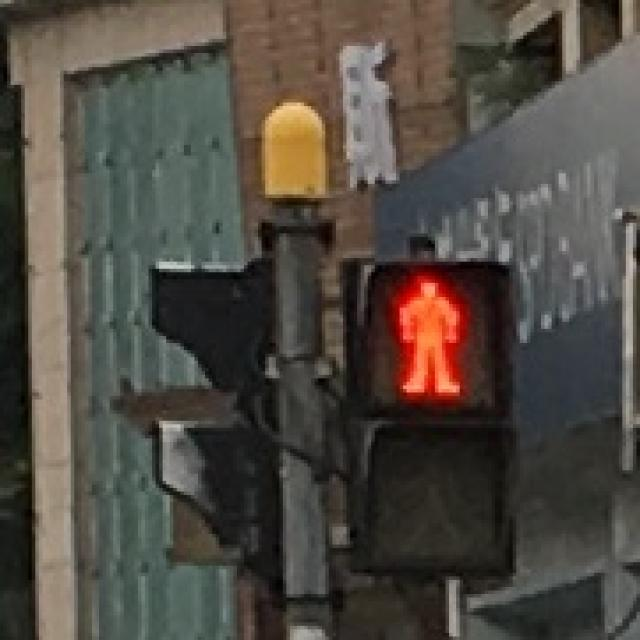red_light: (368, 262, 492, 410)
